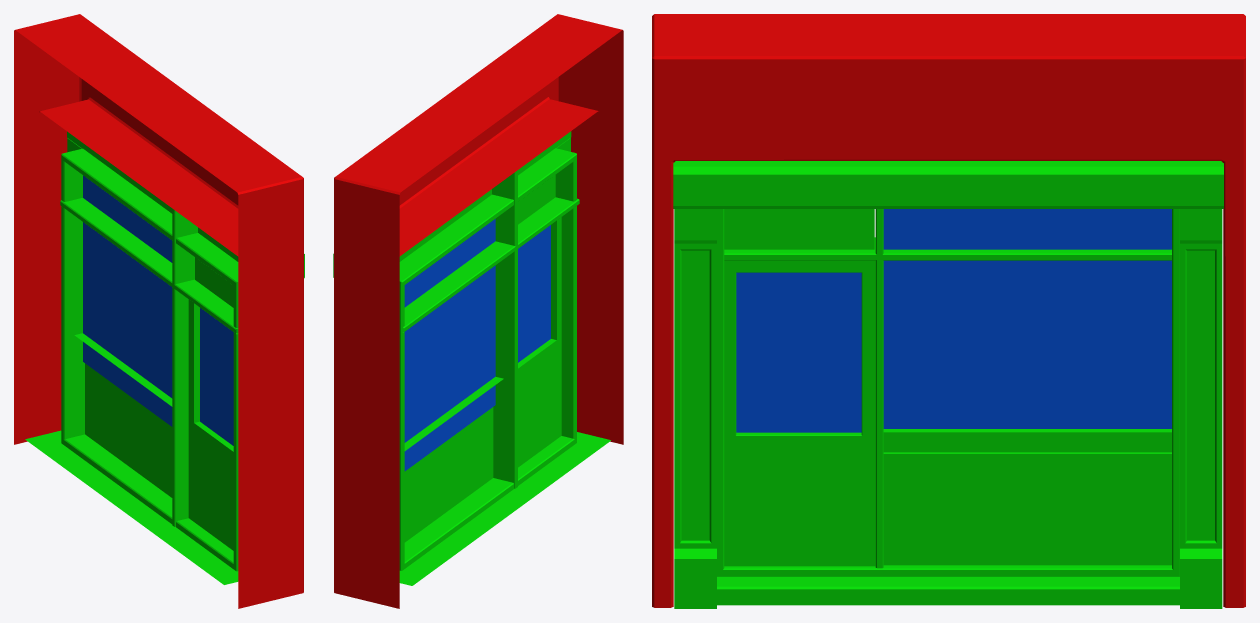
The model's file is shop_H.fbx.
3 views of the same model, side by side, from view 1: azimuth 30°, elevation 25°; view 2: azimuth 150°, elevation 25°; view 3: azimuth 270°, elevation 25° (orthographic). The views are drawn at different scales.
Parts seen in each view (by area): view 1: polySurface207; view 2: polySurface207; view 3: polySurface207.
Part boxes in pixels (<box>): polySurface207: <box>14,14,304,608</box>; polySurface207: <box>333,14,623,608</box>; polySurface207: <box>652,14,1245,608</box>.
Bounding box in the file's own units: 58.44 × 307 × 300.
